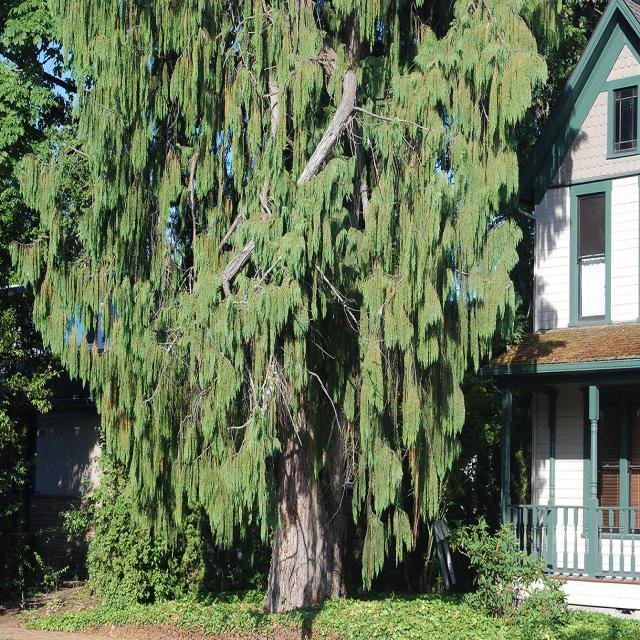Callitropsis nootkatensis: (62, 0, 550, 607)
